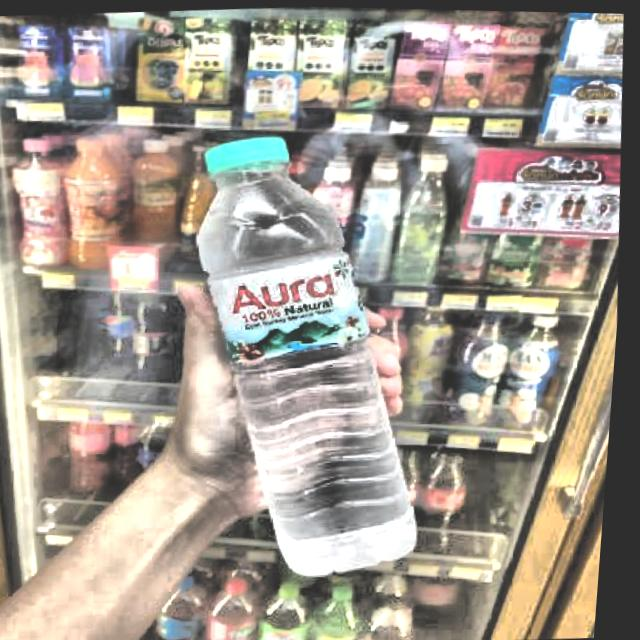Bottles: (126, 106, 489, 602)
